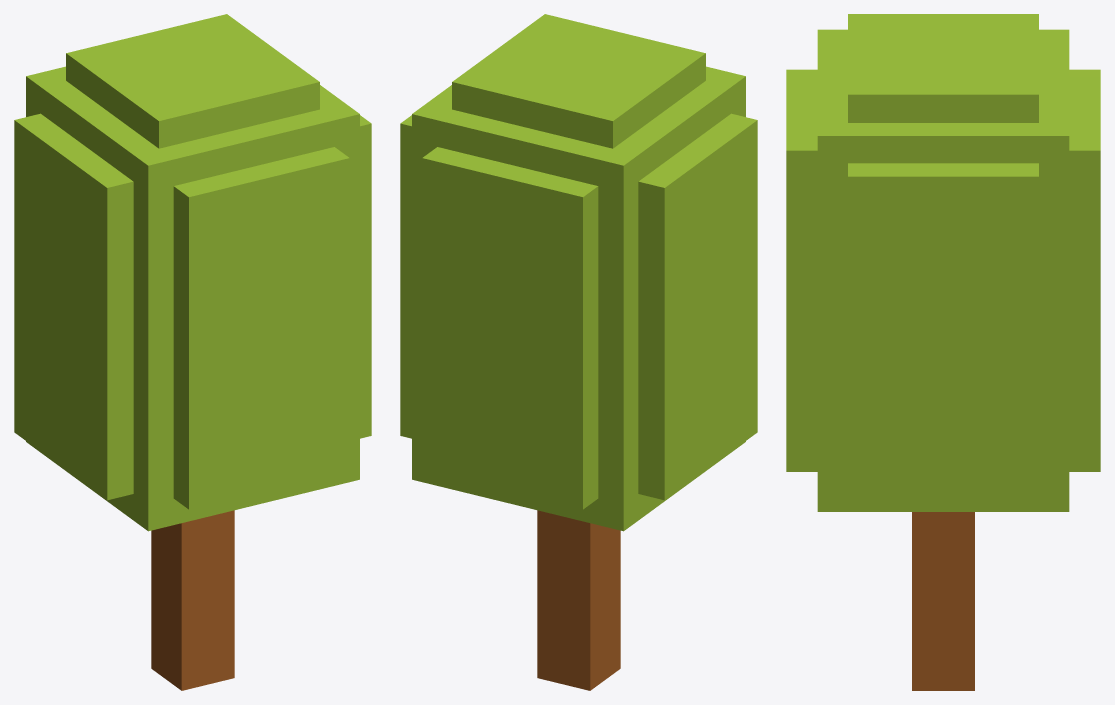
File: STADIUM_Tree_2_Mesh.fbx
3 views of the same model, side by side, from view 1: azimuth 30°, elevation 25°; view 2: azimuth 150°, elevation 25°; view 3: azimuth 270°, elevation 25° (orthographic). The views are drawn at different scales.
Visible parts, largest first — view 1: STADIUM_Tree_2_Mesh; view 2: STADIUM_Tree_2_Mesh; view 3: STADIUM_Tree_2_Mesh.
Part boxes in pixels (x1,y1,x2,y2): STADIUM_Tree_2_Mesh: [14, 14, 371, 690]; STADIUM_Tree_2_Mesh: [400, 14, 757, 690]; STADIUM_Tree_2_Mesh: [786, 14, 1100, 690].
Bounding box in the file's own units: 19.98 × 43.74 × 19.98.
